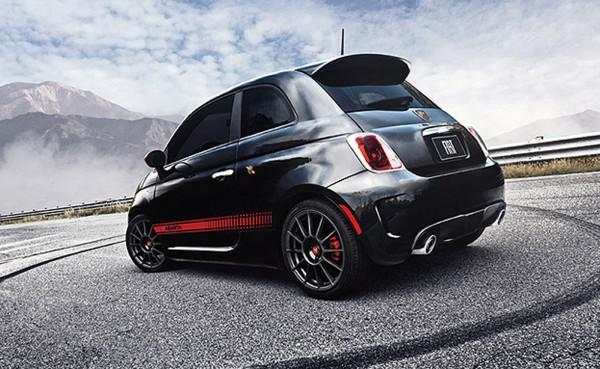Car: (104, 35, 561, 309)
